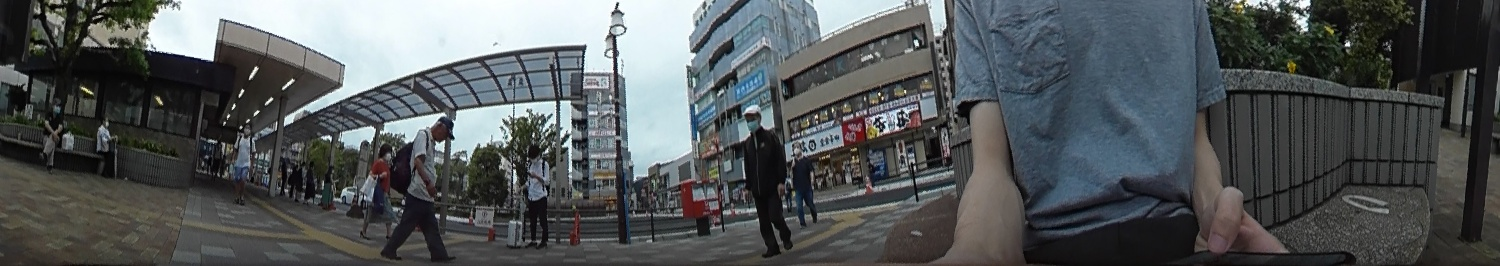difficult_person: (318, 164, 339, 210), (293, 157, 309, 203), (209, 139, 221, 178), (307, 162, 316, 205)
person: (384, 112, 460, 266), (737, 103, 797, 251), (359, 141, 391, 236), (523, 144, 551, 252), (790, 140, 817, 228), (228, 126, 253, 210), (38, 101, 64, 166), (93, 114, 118, 179)
